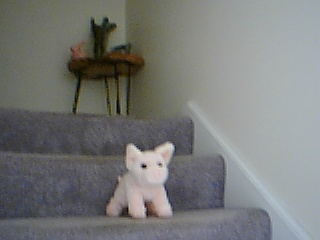piggy: (104, 141, 179, 219)
